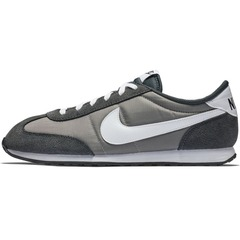nike: (97, 105, 226, 146)
